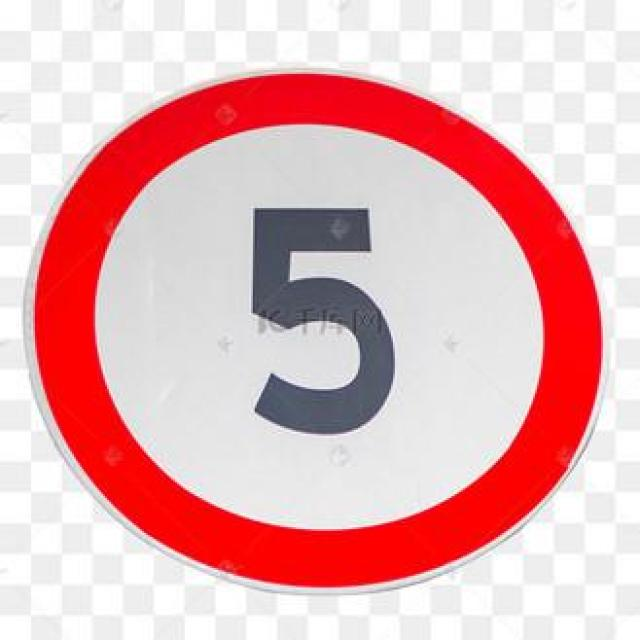speed limit 10: (22, 77, 602, 596)
